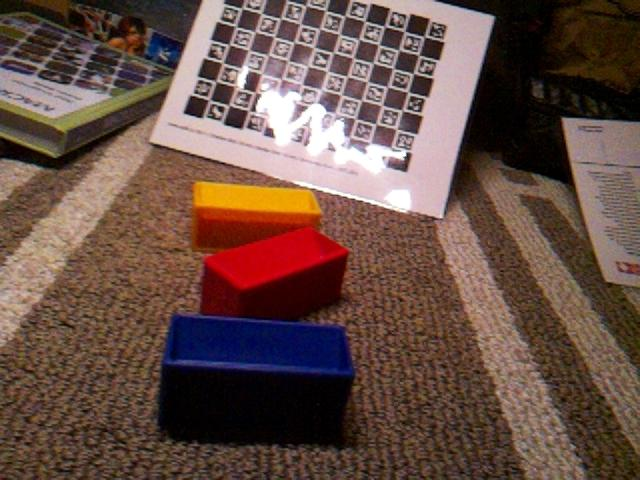blue: (157, 311, 356, 444)
red: (199, 225, 351, 320)
yellow: (190, 179, 324, 252)
